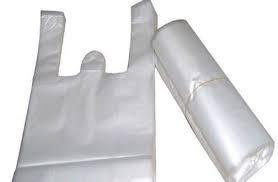Plastic bag: (14, 5, 156, 182), (161, 12, 275, 179)
